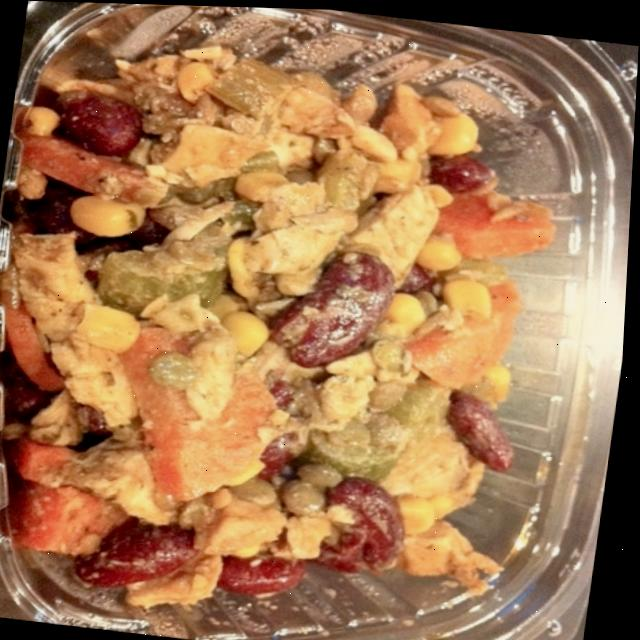鸡肉料理 含炸鸡: (0, 14, 606, 640)
